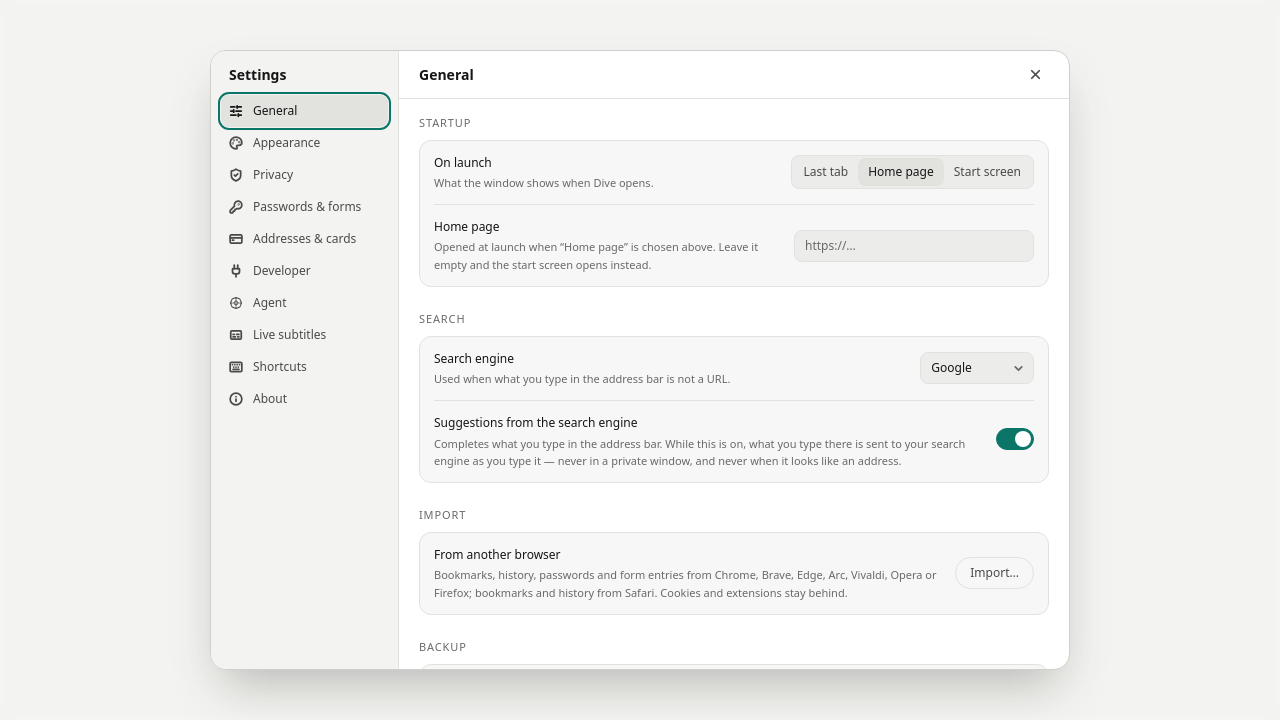
Site permissions › rolls a permission decision back when persistence fails
What coordinates should you click on to do the following:
click the tab "Privacy"
I would click on:
 (304, 175)
Its box is x1=221 y1=159 x2=388 y2=191.
(page scrolled)
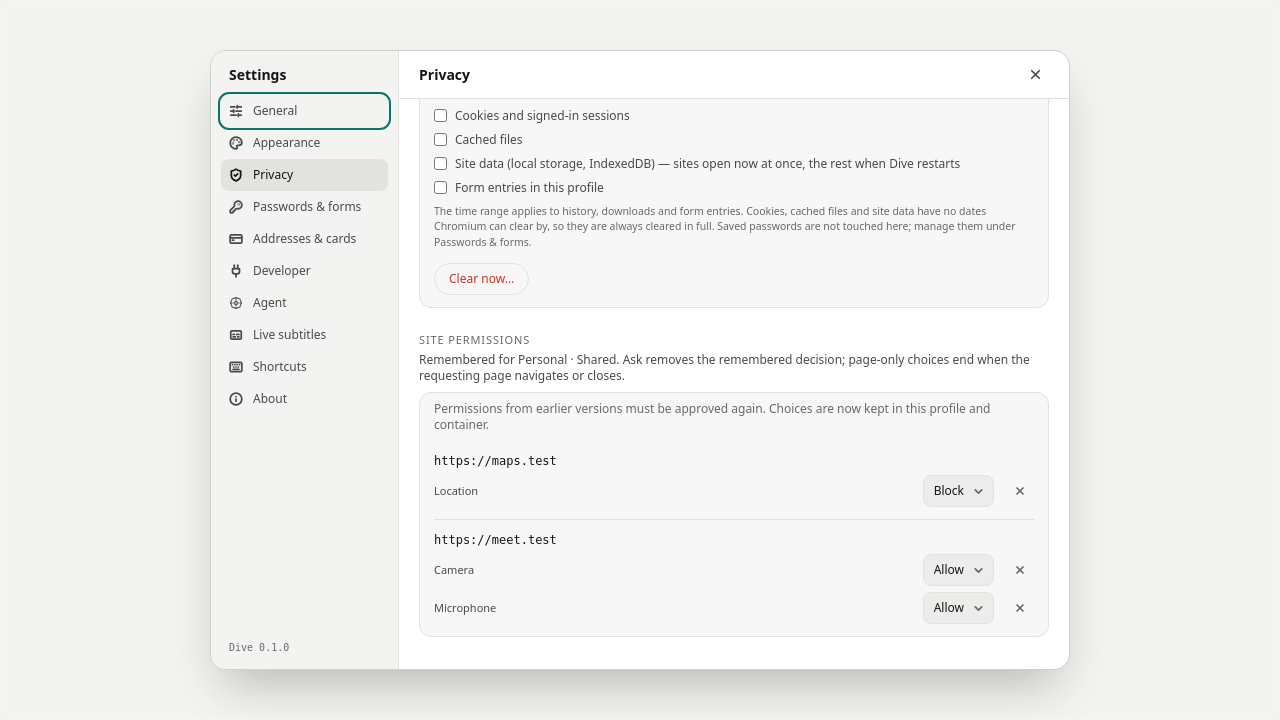
Expected: the text "https://maps.test" is shown, x1=434 y1=454 x2=557 y2=468
What coordinates should you click on to do the following:
click the dropdown named "https://maps.test Location"
I would click on:
 (958, 491)
Its box is x1=923 y1=475 x2=994 y2=507.
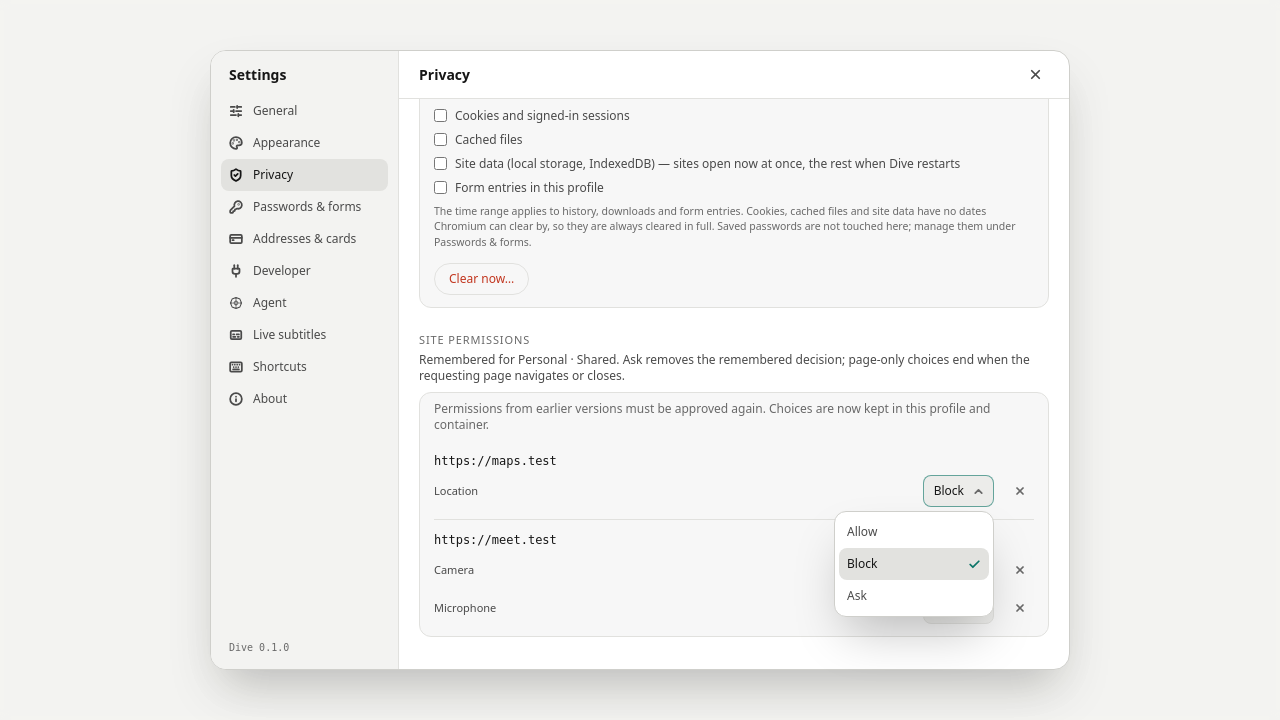
What coordinates should you click on to do the following:
click the option "Allow"
I would click on:
 (862, 532)
Its box is x1=847 y1=523 x2=877 y2=540.
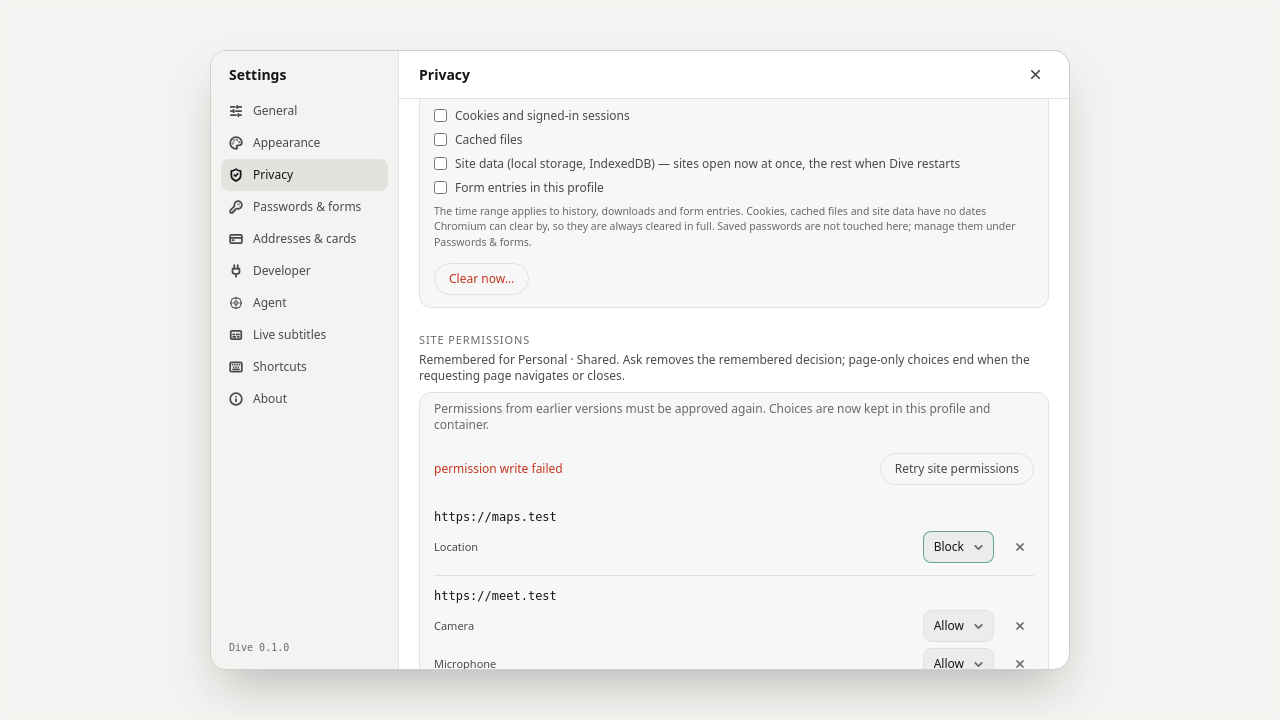
Expected: the dropdown named "https://maps.test Location" reads "Block", x1=923 y1=531 x2=994 y2=563
Expected: the message shows "permission write failed", x1=434 y1=460 x2=563 y2=477
